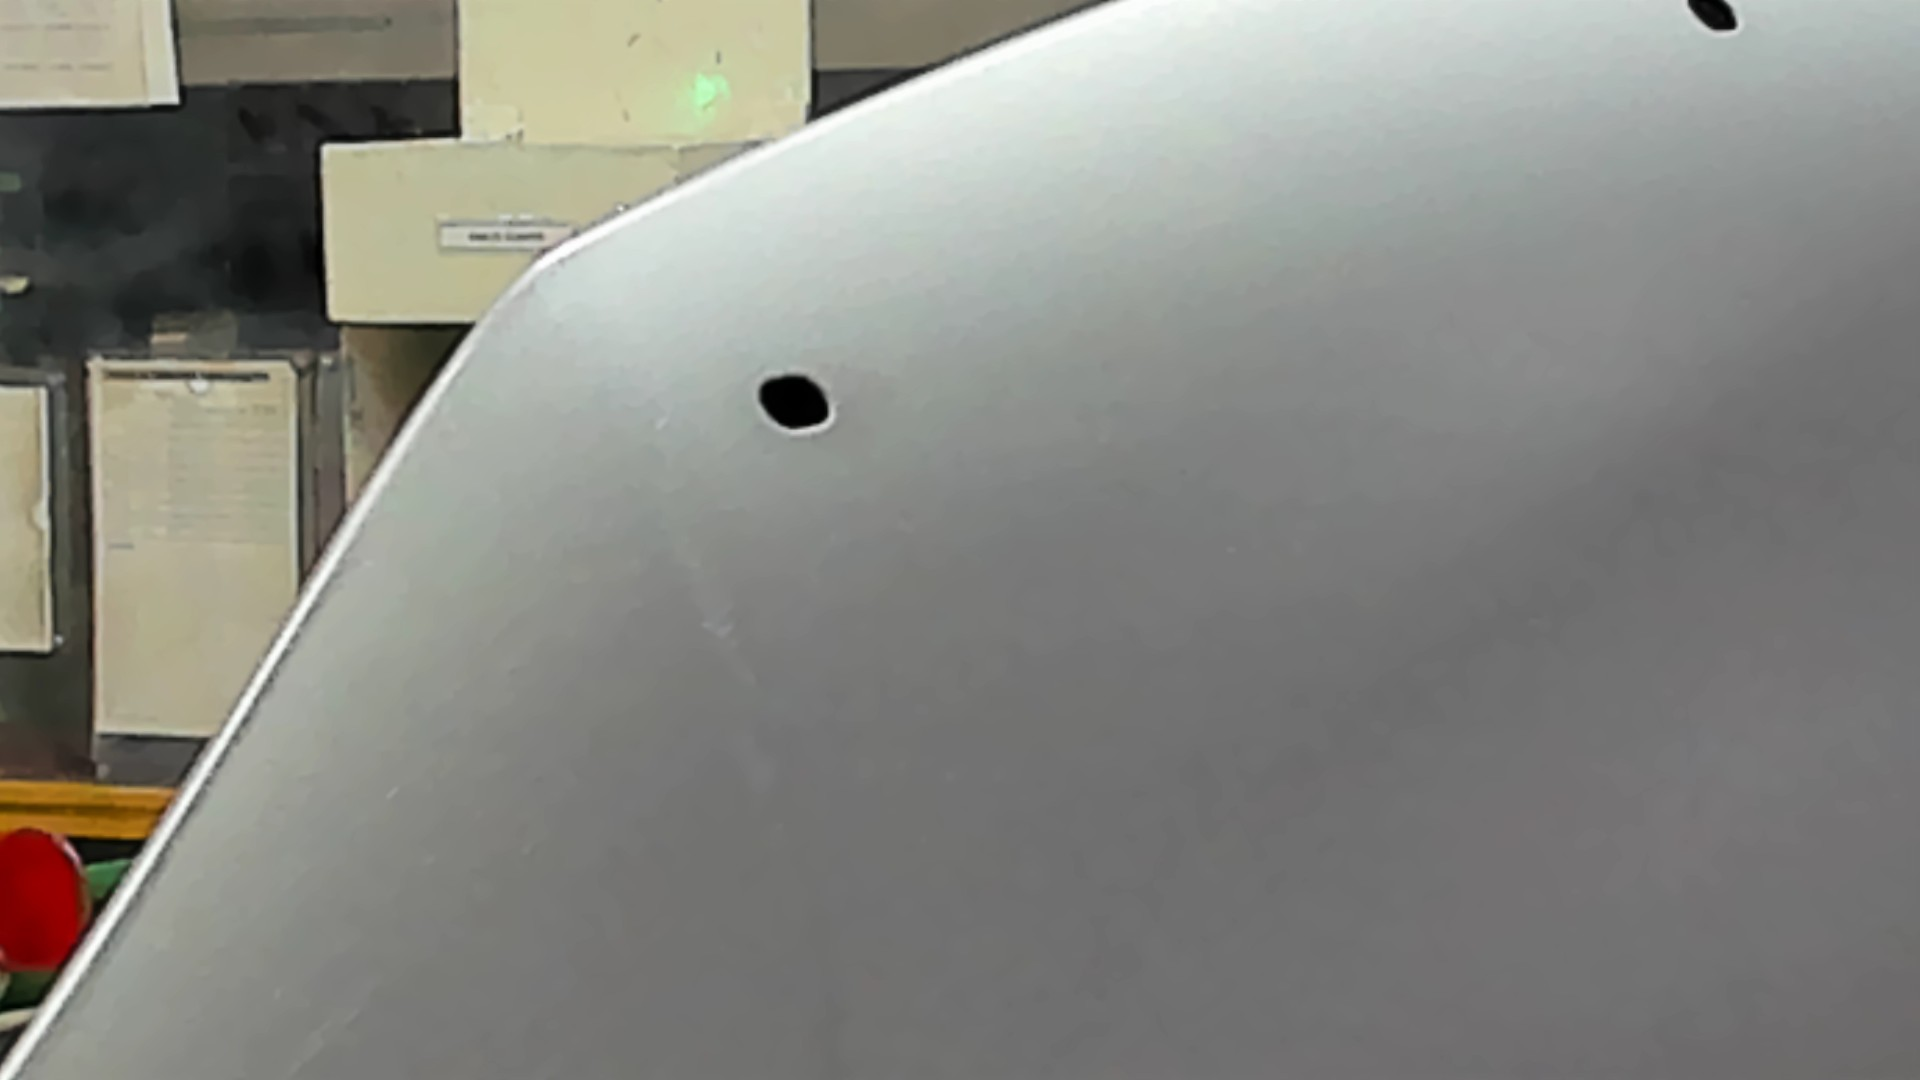chico: (754, 367, 843, 440), (1679, 1, 1742, 55)
